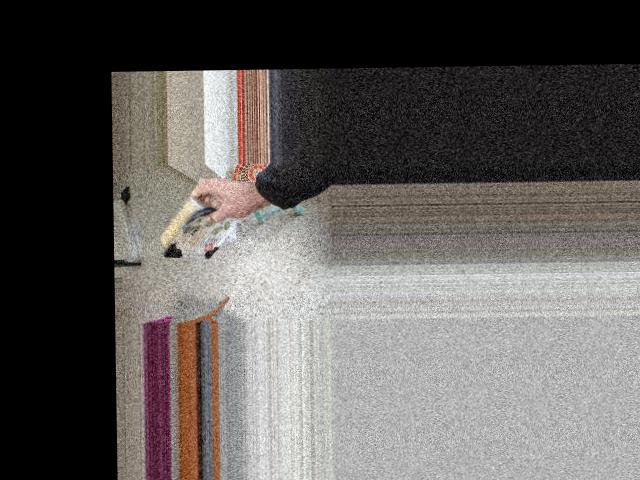cheese: (139, 171, 233, 283)
